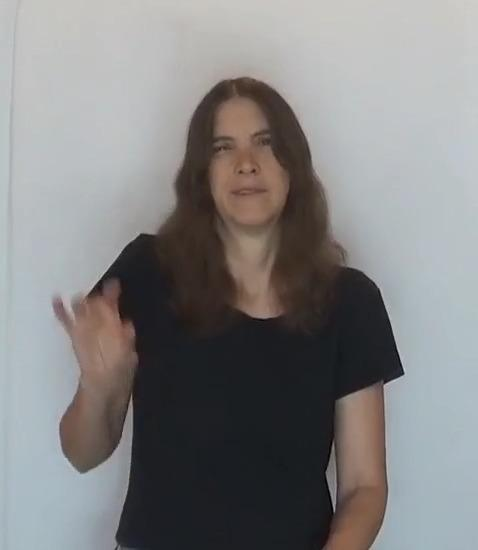Dolor: (40, 66, 434, 487)
